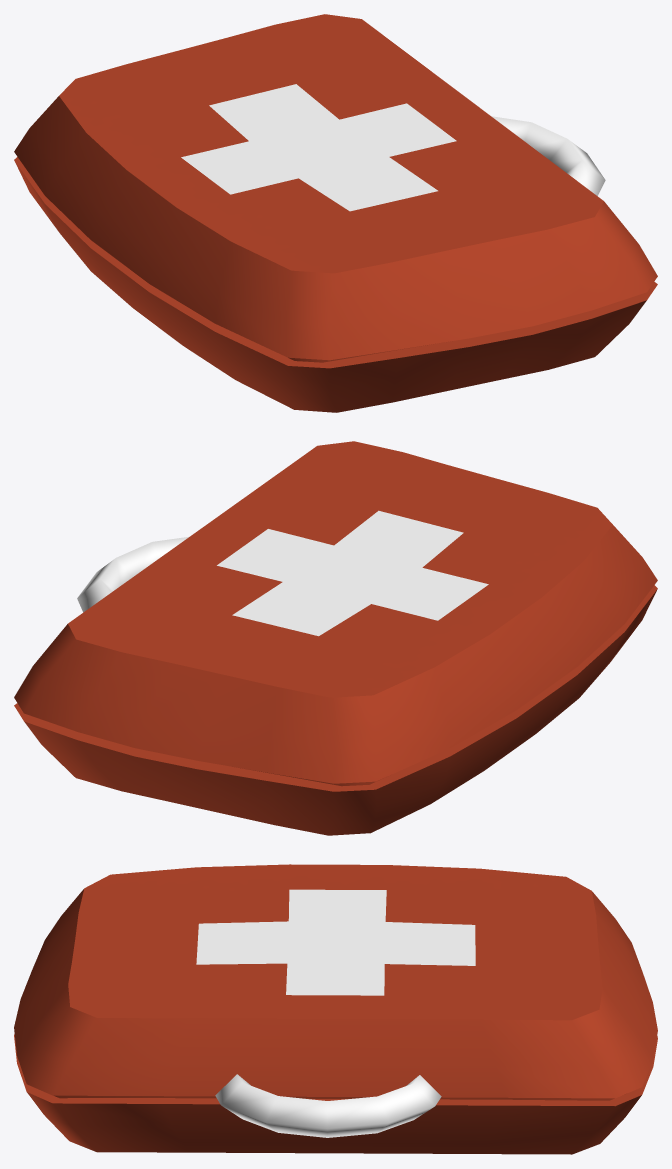
The model's file is medkit.obj.
The picture shows the model from 3 angles, top to bottom: view 1: azimuth 30°, elevation 25°; view 2: azimuth 150°, elevation 25°; view 3: azimuth 270°, elevation 25°; orthographic projection. The views are drawn at different scales.
Parts seen in each view (by area): view 1: medkit; view 2: medkit; view 3: medkit.
Part boxes in pixels (x1=…): medkit: x1=14, y1=14, x2=657, y2=412; medkit: x1=14, y1=441, x2=657, y2=835; medkit: x1=14, y1=864, x2=657, y2=1154.
Bounding box in the file's own units: 0.4517 × 0.1306 × 0.5679.
